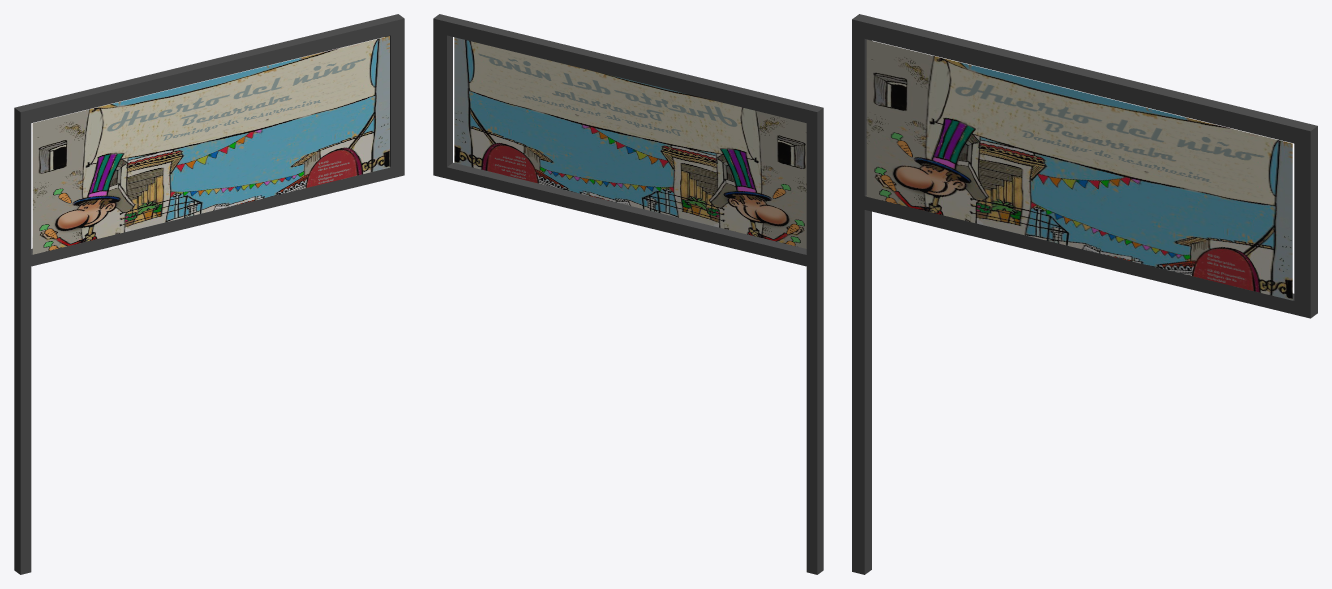
File: Valla_2.fbx
3 views of the same model, side by side, from view 1: azimuth 30°, elevation 25°; view 2: azimuth 150°, elevation 25°; view 3: azimuth 330°, elevation 25° (orthographic). The views are drawn at different scales.
Visible parts, largest first — view 1: Plane.001, Cube.001; view 2: Plane.001, Cube.001; view 3: Plane.001, Cube.001.
Boxes of the visible parts, x1=… form: Plane.001: x1=32, y1=36, x2=389, y2=254; Cube.001: x1=14, y1=14, x2=404, y2=574; Plane.001: x1=454, y1=37, x2=806, y2=248; Cube.001: x1=433, y1=14, x2=823, y2=574; Plane.001: x1=866, y1=39, x2=1292, y2=300; Cube.001: x1=852, y1=14, x2=1317, y2=574.
Bounding box in the file's own units: 411 × 473 × 11.57.
